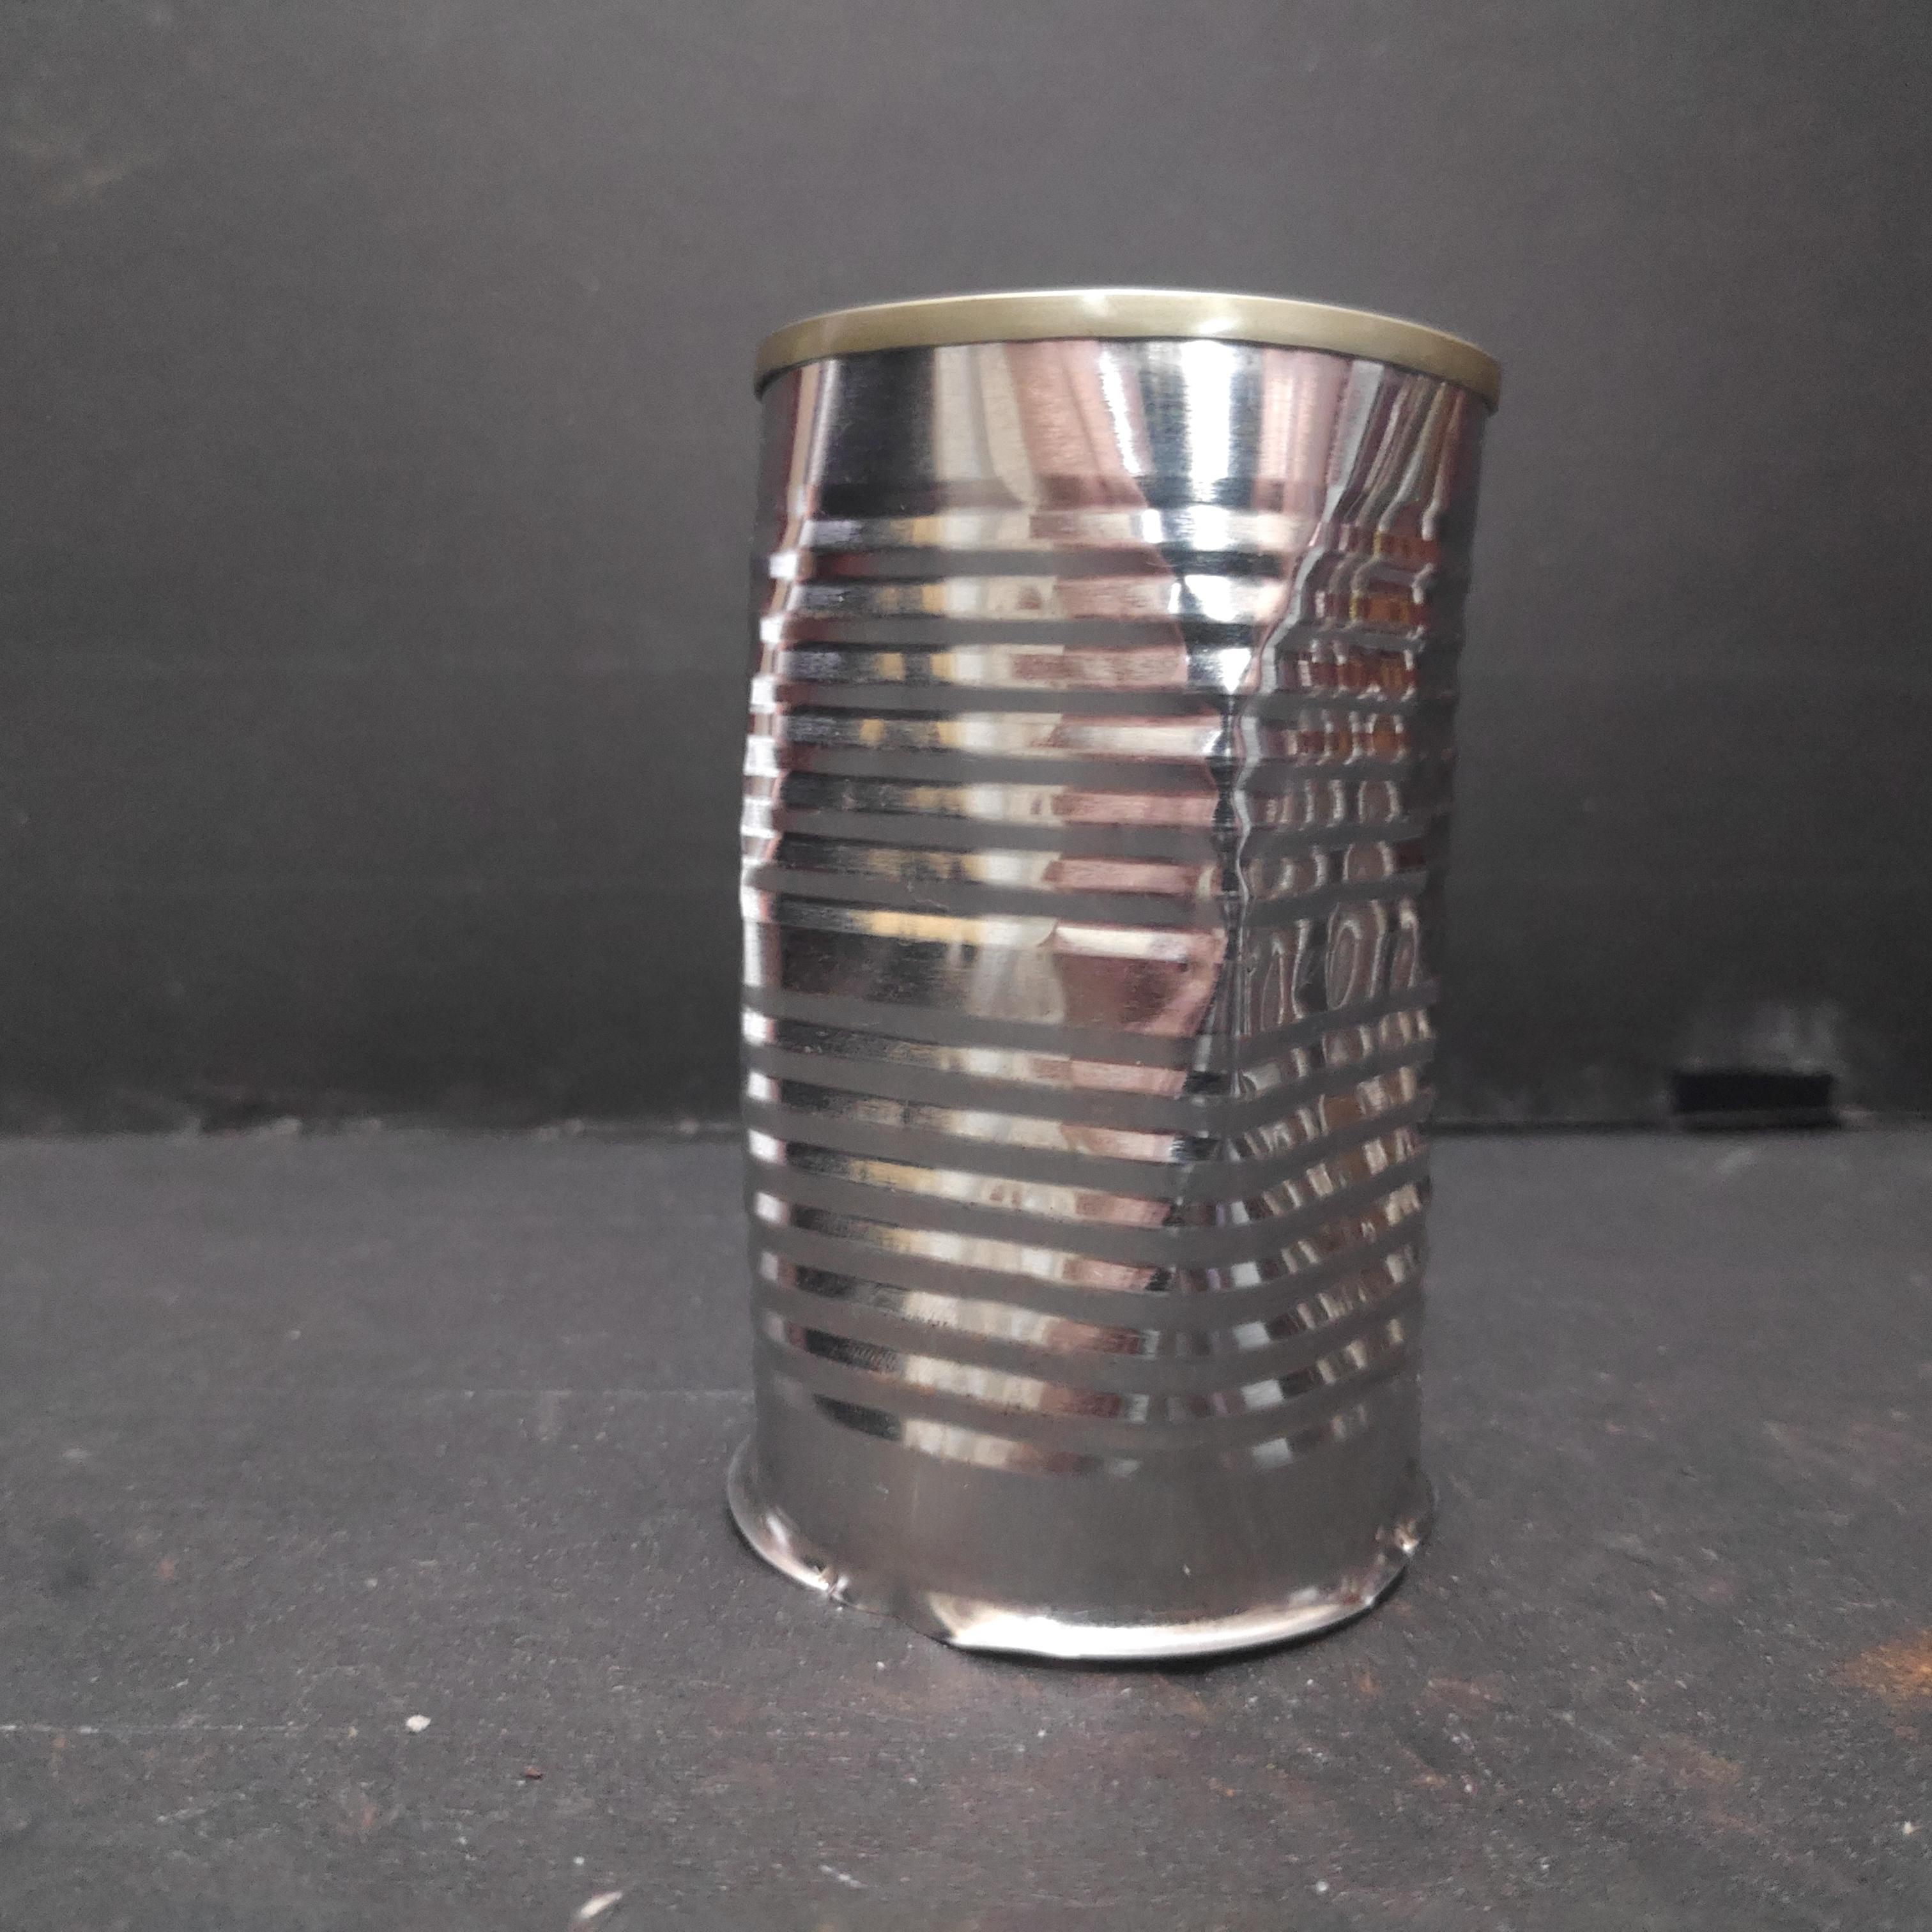Minor Defect: (724, 276, 1522, 1672)
